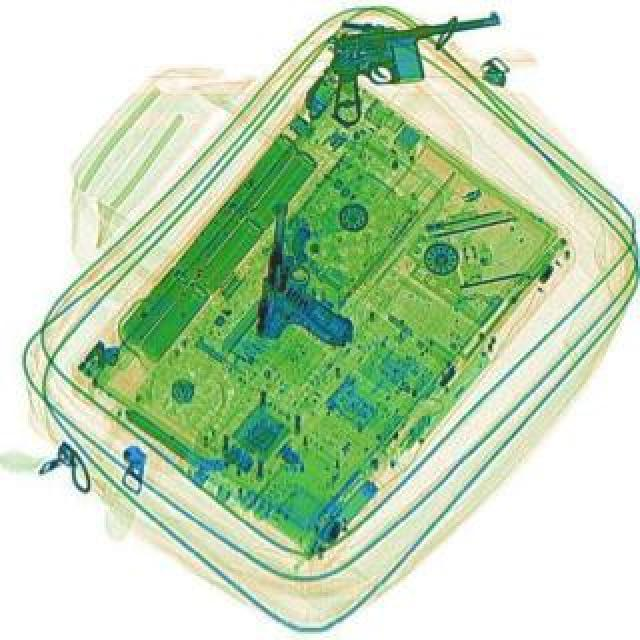gun: (322, 14, 518, 134), (254, 208, 370, 352)
